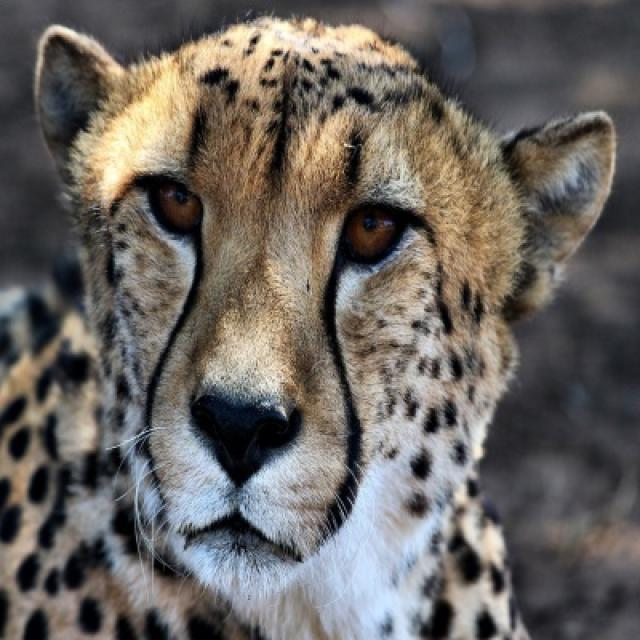Cheetah: (0, 18, 618, 638)
